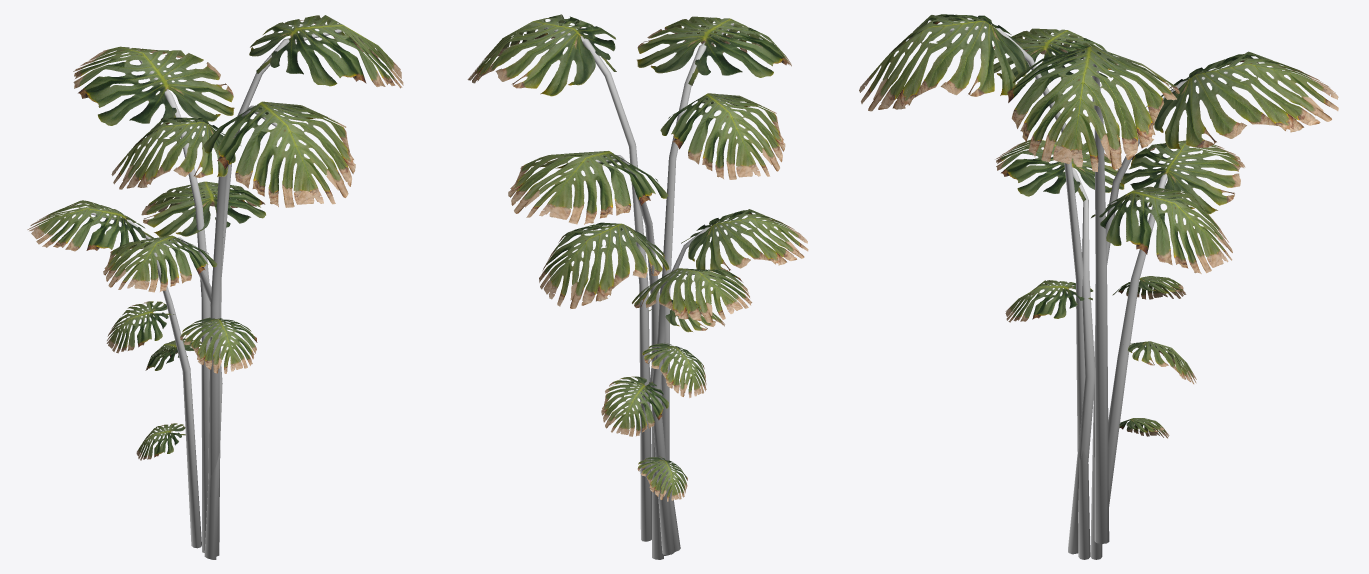
File: plant1.dae
3 renders of one model, left to right at view 1: azimuth 30°, elevation 25°; view 2: azimuth 150°, elevation 25°; view 3: azimuth 270°, elevation 25°, orthographic. The views are drawn at different scales.
Visible parts, largest first — view 1: meshU3D; view 2: meshU3D; view 3: meshU3D.
Part boxes in pixels (box(x1,y1,x2,y2)): meshU3D: box(27, 15, 403, 559); meshU3D: box(467, 14, 808, 559); meshU3D: box(859, 14, 1338, 559).
Size of the model in its own units: 57.88 by 81.85 by 67.49.
